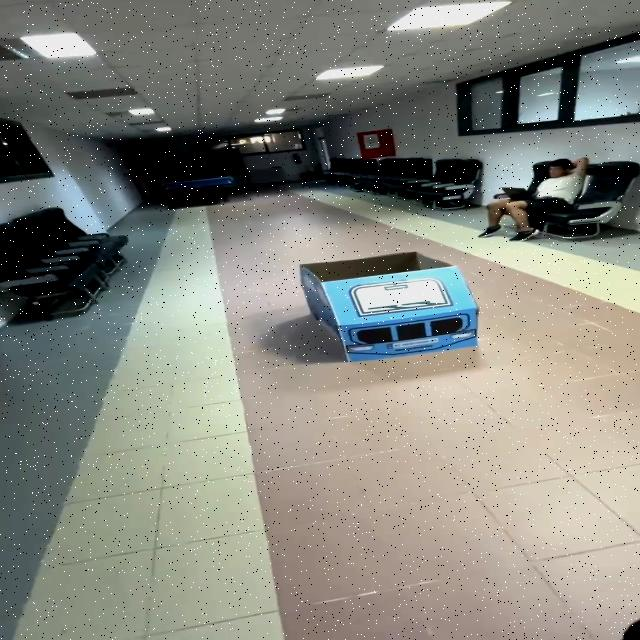blue_car: (277, 244, 501, 375)
